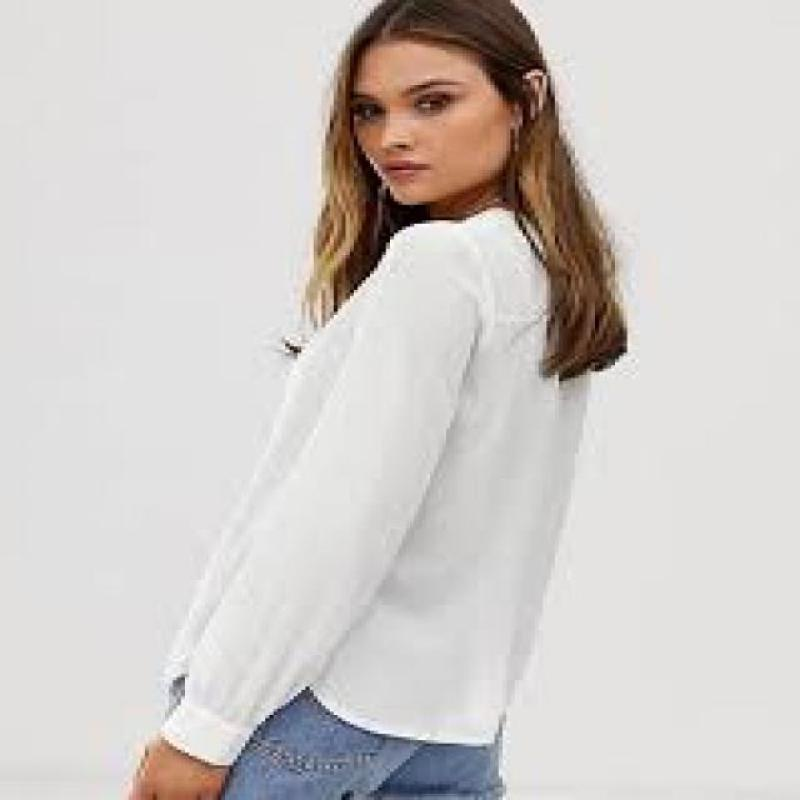long sleeve shirt: (155, 202, 589, 762)
trousers: (224, 688, 514, 800)
